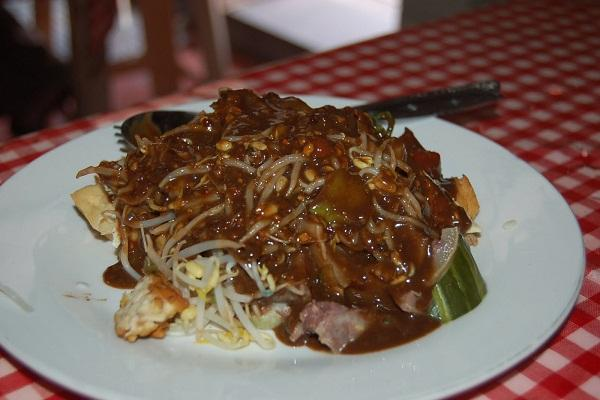rujak_cingur: (71, 90, 487, 355)
